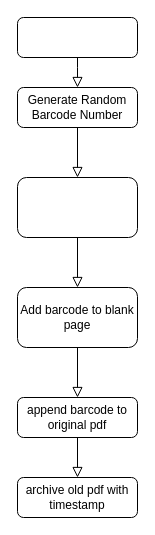
This 155x535 diagram has some shape labels left out. Each missing label, with the centre of its shape:
"Generate barcode" belongs at pixel 77 207.
"Run Pipeline" belongs at pixel 77 37.
